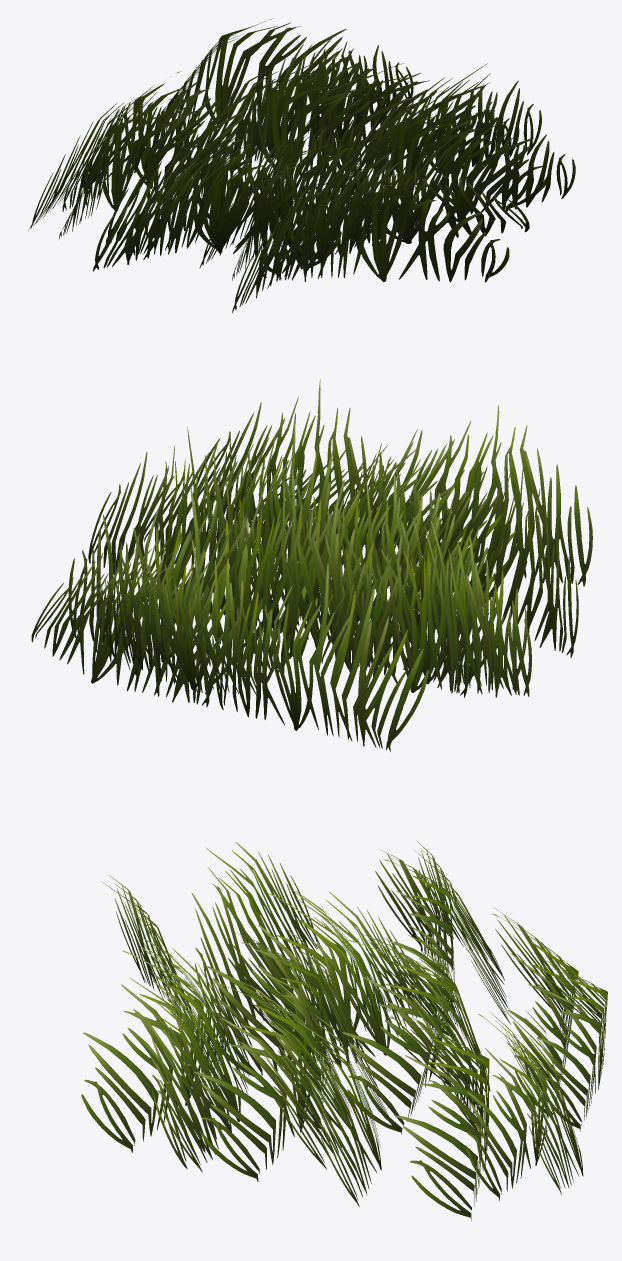
The model's file is grassKit_front_medium.fbx.
3 views of the same model, one above another, from view 1: azimuth 30°, elevation 25°; view 2: azimuth 150°, elevation 25°; view 3: azimuth 270°, elevation 25° (orthographic). The views are drawn at different scales.
Visible parts, largest first — view 1: grassKit_front_medium; view 2: grassKit_front_medium; view 3: grassKit_front_medium.
Boxes of the visible parts, box(x1,y1,x2,y2) form: grassKit_front_medium: box(28, 18, 575, 312); grassKit_front_medium: box(31, 379, 592, 751); grassKit_front_medium: box(81, 841, 607, 1220).
Bounding box in the file's own units: 3.01 × 1.09 × 2.63.
